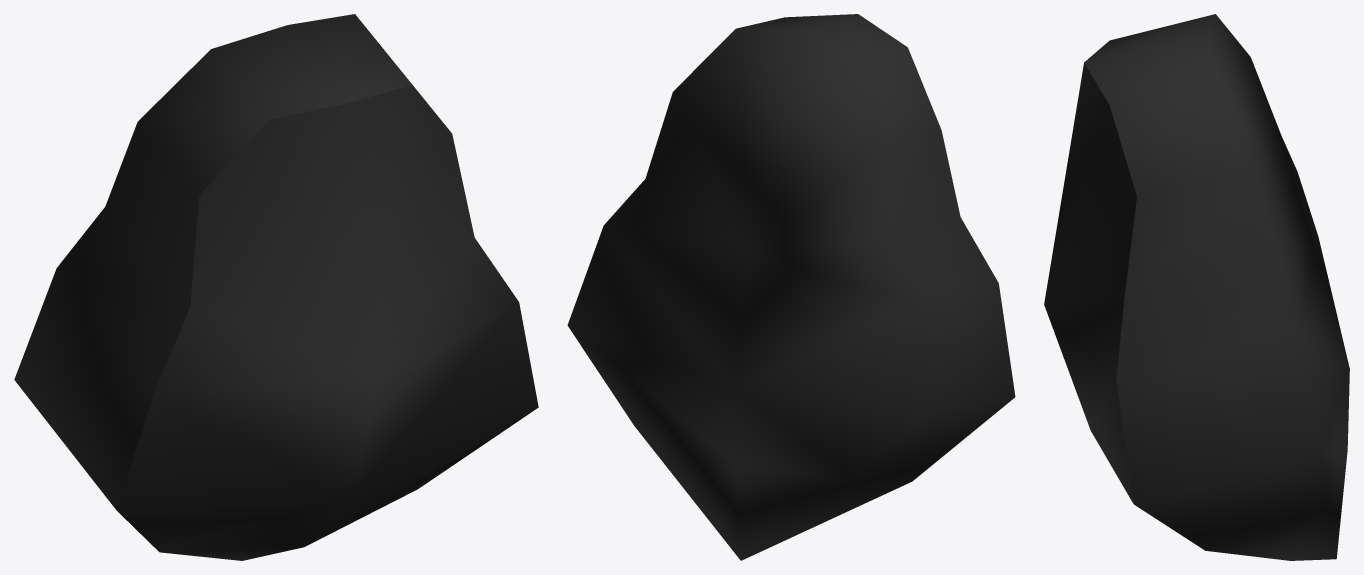
File: Mustache_1.fbx
The picture shows the model from 3 angles, left to right: view 1: azimuth 30°, elevation 25°; view 2: azimuth 150°, elevation 25°; view 3: azimuth 270°, elevation 25°; orthographic projection. The views are drawn at different scales.
Visible parts, largest first — view 1: Mustache_1; view 2: Mustache_1; view 3: Mustache_1.
Boxes of the visible parts, box(x1,y1,x2,y2) form: Mustache_1: box(14, 14, 538, 560); Mustache_1: box(567, 14, 1015, 560); Mustache_1: box(1044, 14, 1349, 560).
Size of the model in its own units: 9.51 by 12.25 by 6.48.
